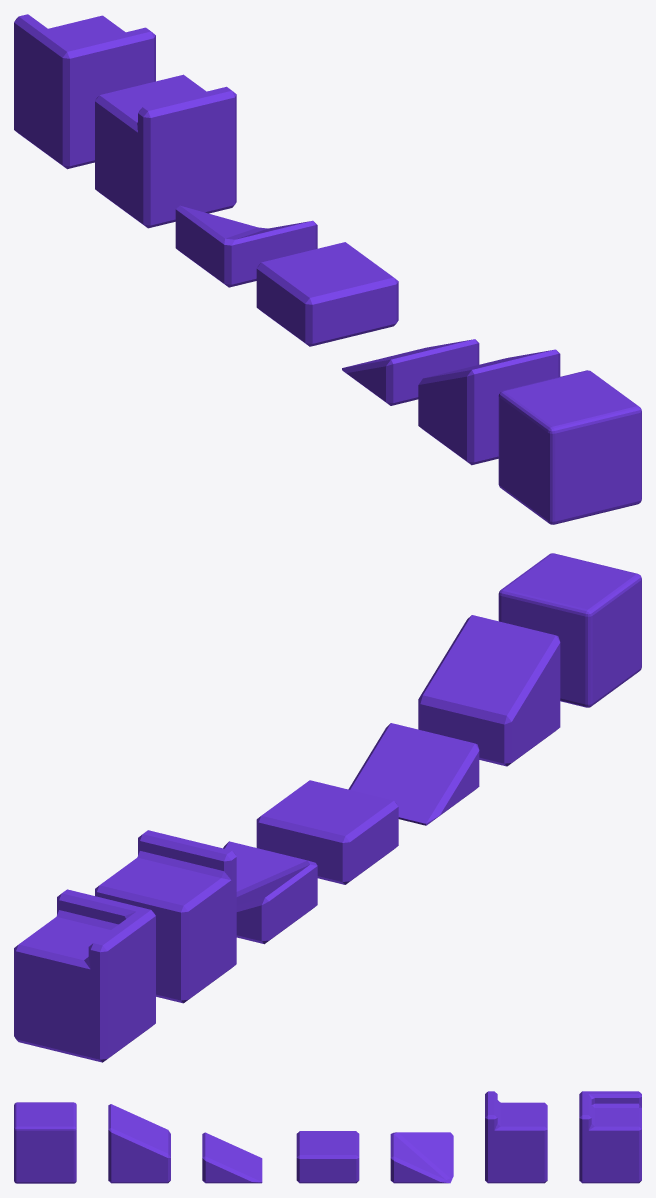
File: worldblocks.glb
3 views of the same model, one above another, from view 1: azimuth 30°, elevation 25°; view 2: azimuth 150°, elevation 25°; view 3: azimuth 270°, elevation 25° (orthographic). The views are drawn at different scales.
Visible parts, largest first — view 1: block, blockwall, blockwallcorner, blockshort, ramptop, ramplowercorner, rampbottom; view 2: blockwallcorner, ramptop, blockwall, block, blockshort, rampbottom, ramplowercorner; view 3: blockwallcorner, blockwall, block, ramptop, blockshort, ramplowercorner, rampbottom.
Part boxes in pixels (<box>): block: <box>498,370,641,524</box>; blockwall: <box>95,74,236,228</box>; blockwallcorner: <box>14,14,155,169</box>; blockshort: <box>256,242,398,346</box>; ramptop: <box>418,349,560,465</box>; ramplowercorner: <box>175,205,317,287</box>; rampbottom: <box>342,339,479,405</box>; blockwallcorner: <box>14,889,155,1062</box>; ramptop: <box>418,615,560,766</box>; blockwall: <box>95,830,236,1003</box>; block: <box>498,553,641,707</box>; blockshort: <box>256,780,398,884</box>; rampbottom: <box>348,723,479,825</box>; ramplowercorner: <box>223,841,317,944</box>; blockwallcorner: <box>579,1091,641,1183</box>; blockwall: <box>485,1091,547,1183</box>; block: <box>14,1102,76,1183</box>; ramptop: <box>108,1104,170,1183</box>; blockshort: <box>296,1131,359,1183</box>; ramplowercorner: <box>390,1132,453,1183</box>; rampbottom: <box>202,1132,262,1183</box>.
Size of what is drawn, in the model's own units: 2 by 2.4 by 20.
